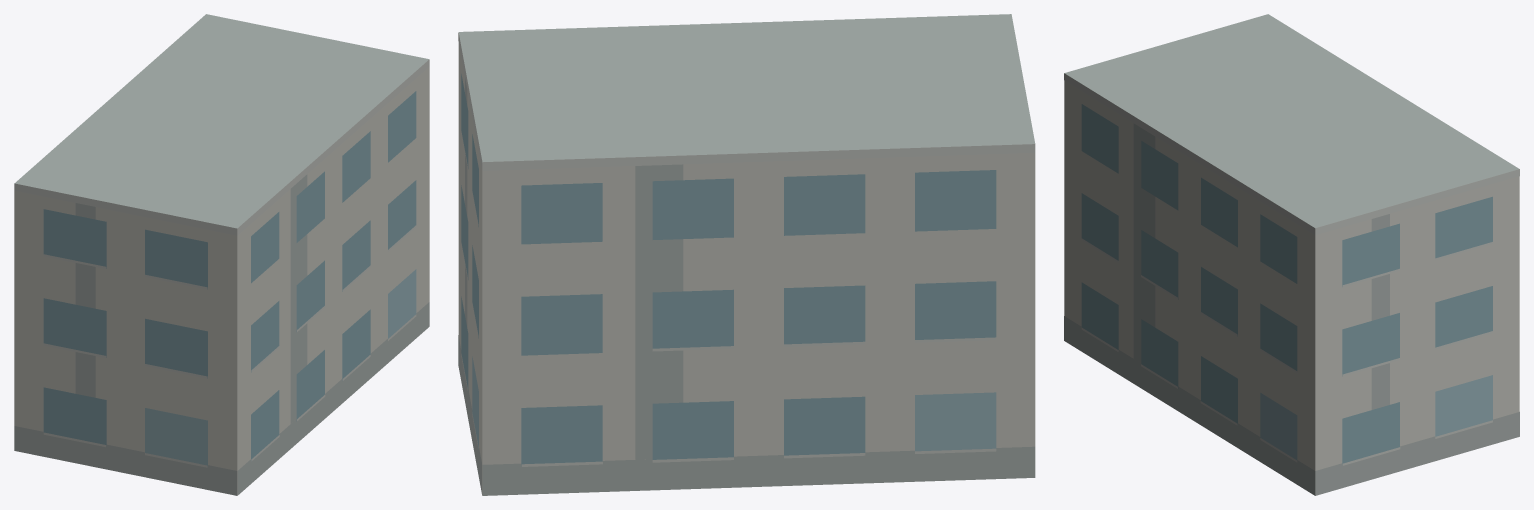
File: residential-dbc2d02e-6c8c-43a1-903d-0f1fa6205dae.glb
The picture shows the model from 3 angles, left to right: view 1: azimuth 30°, elevation 25°; view 2: azimuth 150°, elevation 25°; view 3: azimuth 270°, elevation 25°; orthographic projection. The views are drawn at different scales.
Parts seen in each view (by area): view 1: residential-dbc2d02e-6c8c-43a1-903d-0f1fa6205dae.tmp; view 2: residential-dbc2d02e-6c8c-43a1-903d-0f1fa6205dae.tmp; view 3: residential-dbc2d02e-6c8c-43a1-903d-0f1fa6205dae.tmp.
Part boxes in pixels (x1=…): residential-dbc2d02e-6c8c-43a1-903d-0f1fa6205dae.tmp: x1=14, y1=14, x2=429, y2=495; residential-dbc2d02e-6c8c-43a1-903d-0f1fa6205dae.tmp: x1=458, y1=14, x2=1035, y2=495; residential-dbc2d02e-6c8c-43a1-903d-0f1fa6205dae.tmp: x1=1064, y1=14, x2=1519, y2=495.
Size of the model in its own units: 15.72 by 9.15 by 14.13.
